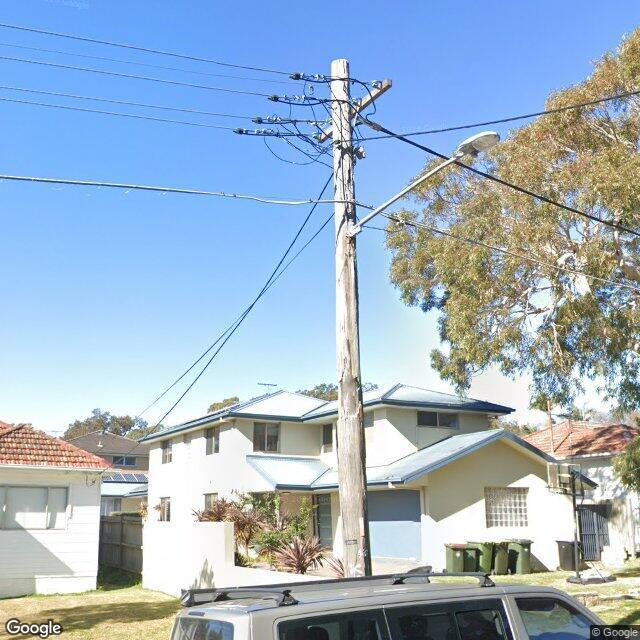crossarm: (317, 78, 392, 141)
streetlight: (343, 130, 502, 240)
timber-pole: (329, 57, 368, 580)
